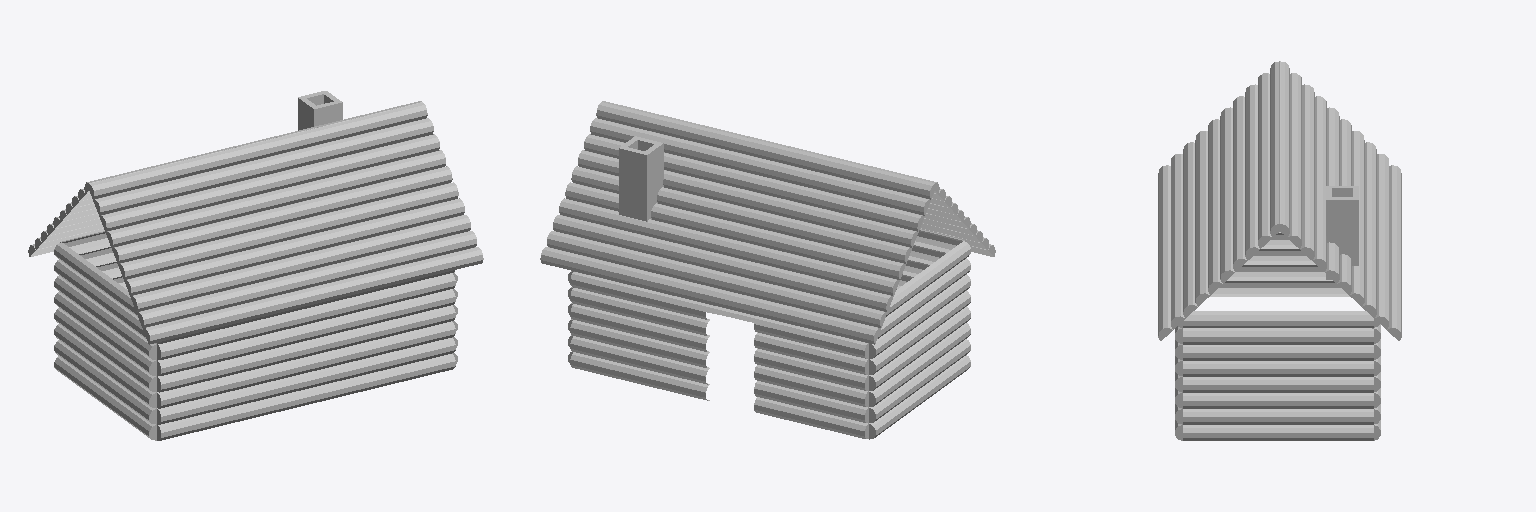
The model's file is ChozaCampoTemp.obj.
3 renders of one model, left to right at view 1: azimuth 30°, elevation 25°; view 2: azimuth 150°, elevation 25°; view 3: azimuth 270°, elevation 25°, orthographic.
Visible parts, largest first — view 1: polySurface4; view 2: polySurface4; view 3: polySurface4.
Part boxes in pixels (left/top/right/bottom): polySurface4: left=28, top=91, right=483, bottom=440; polySurface4: left=540, top=101, right=995, bottom=439; polySurface4: left=1158, top=61, right=1401, bottom=440.
Size of the model in its own units: 14.59 by 9.47 by 9.23.